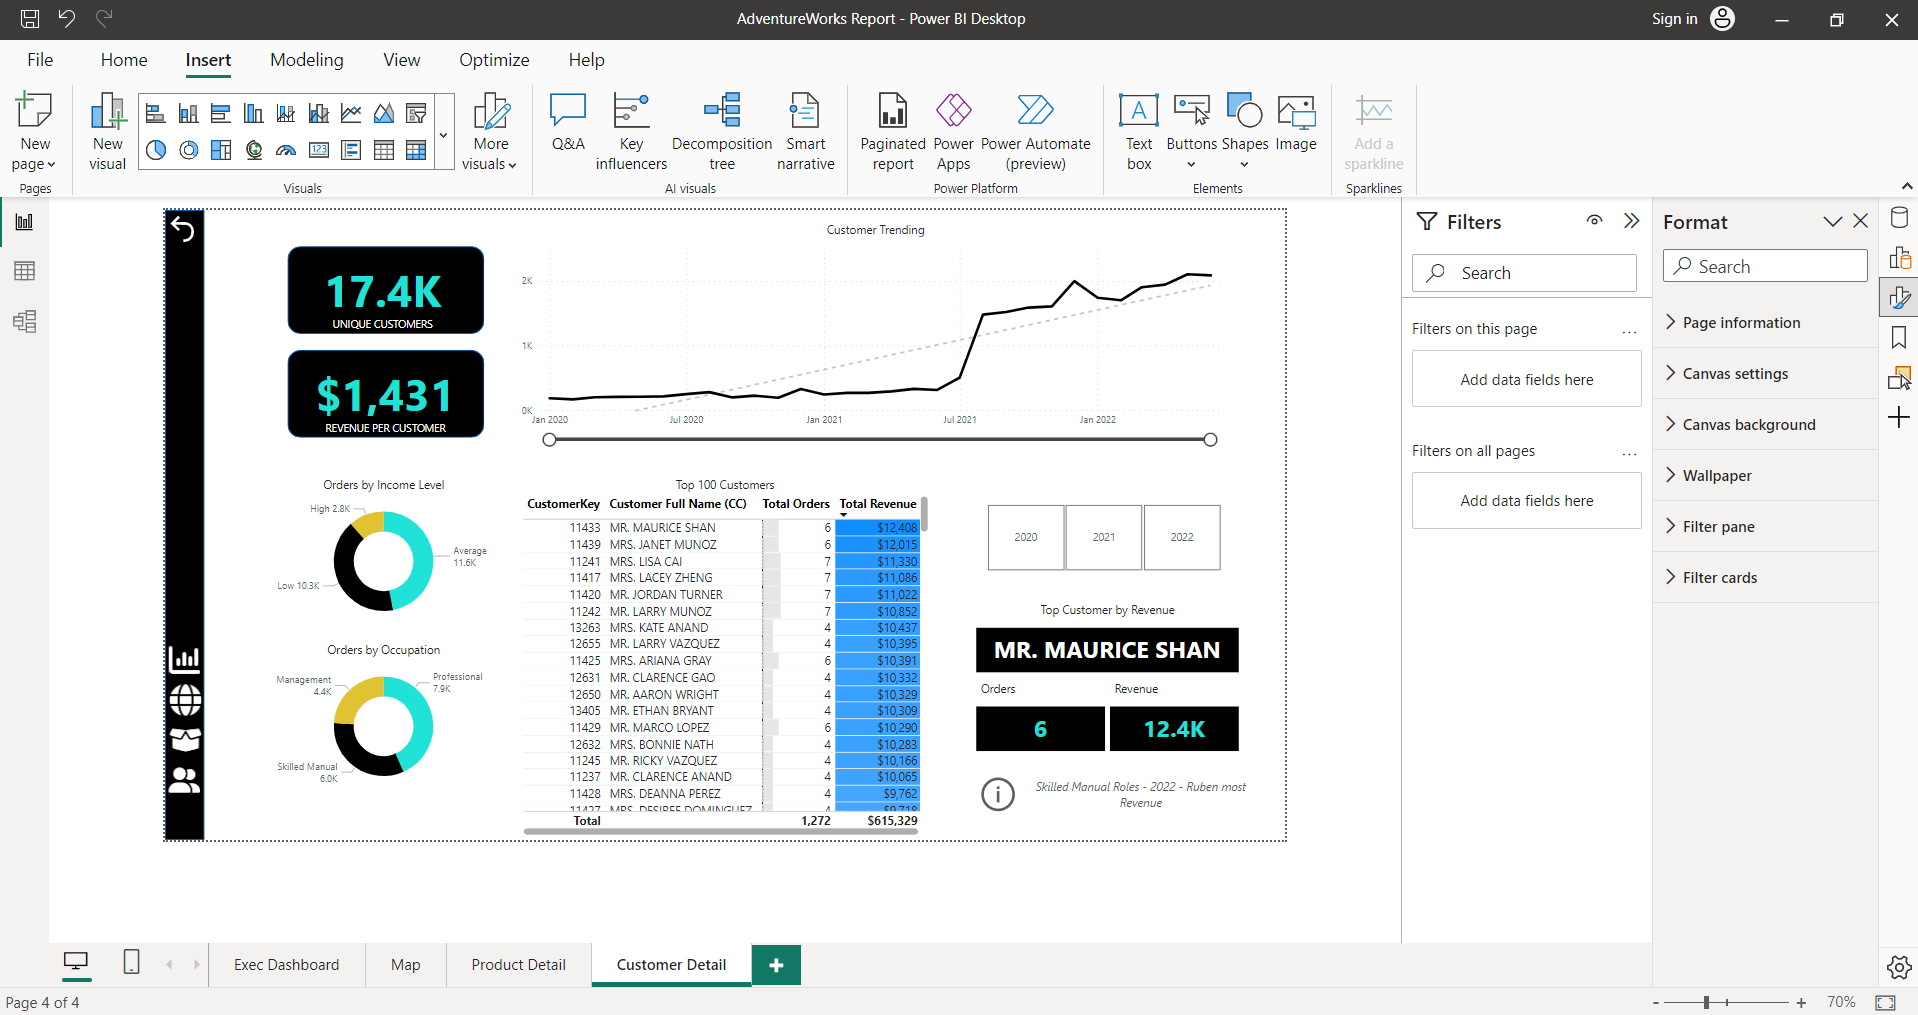

The page's visual inventory and layout, read from the dashboard file:
{"tool":"powerbi","page":{"name":"Customer Detail","canvas":[1280,720],"ordinal":3},"visuals":[{"type":"shape","box":[0,0,45,720],"z":0},{"type":"shape","box":[139.6,41.9,224.9,100.2],"z":1000},{"type":"card","fields":{"Values":["Measure Table.Total Customers"]},"box":[139.6,41.9,217.6,113.7],"z":2000},{"type":"shape","box":[139.6,159.3,224.9,100.2],"z":3000},{"type":"card","fields":{"Values":["Measure Table.Average Revenue per Customer"]},"box":[140.3,159.7,224.3,112.9],"z":4000},{"type":"lineChart","title":"Customer Trending","fields":{"Y":["Measure Table.Total Customers"],"Category":["Calendar Lookup.Date Hierarchy.Start of Year","Calendar Lookup.Date Hierarchy.Start of Month","Calendar Lookup.Date Hierarchy.Start of Week","Calendar Lookup.Date Hierarchy.Date"]},"box":[402.9,12.9,818.6,260],"z":5000},{"type":"donutChart","title":"Orders by Income Level","fields":{"Category":["Customer Lookup.Income Level"],"Y":["Measure Table.Total Orders"]},"box":[112.9,304.3,274.3,177.1],"z":6000},{"type":"donutChart","title":"Orders by Occupation","fields":{"Y":["Measure Table.Total Orders"],"Category":["Customer Lookup.Occupation"]},"box":[112.9,492.9,274.3,177.1],"z":7000},{"type":"tableEx","title":"Top 100 Customers","fields":{"Values":["Customer Lookup.CustomerKey","Customer Lookup.Customer Full Name (CC)","Measure Table.Total Orders","Measure Table.Total Revenue"]},"box":[402.9,304.3,474.3,415.7],"z":8000},{"type":"card","fields":{"Values":["Customer Lookup.Full Name (Customer Detail)"]},"box":[927.2,476.8,300,51.4],"z":9000},{"type":"textbox","box":[927.2,442.5,300,34.3],"z":10000},{"type":"card","fields":{"Values":["Measure Table.Total Orders (Customer Detail)"]},"box":[927.2,566.8,147.1,51.4],"z":11000},{"type":"textbox","box":[927.2,532.5,147.1,34.3],"z":12000},{"type":"card","fields":{"Values":["Measure Table.Total Revenue (Customer Detail)"]},"box":[1080.1,566.8,147.1,51.4],"z":13000},{"type":"textbox","box":[1080.1,532.5,147.1,34.3],"z":14000},{"type":"slicer","fields":{"Values":["Calendar Lookup.Year"]},"box":[914.3,330,315.7,88.6],"z":15000},{"type":"actionButton","box":[927.1,642.9,337.1,50],"z":16000},{"type":"actionButton","box":[0,1.4,44.3,40],"z":17000},{"type":"actionButton","box":[1.4,582.9,44.3,45.7],"z":17001},{"type":"actionButton","box":[1.4,537.1,44.3,45.7],"z":17002},{"type":"actionButton","box":[0,628.6,44.3,45.7],"z":17003},{"type":"actionButton","box":[0,491.4,44.3,45.7],"z":17004}]}

Visuals, with their boxes on the page's 1280x720 design canvas (x1, y1, x2, y2). These are canvas units, not pixel positions in the 1918x1015 screenshot, which may show the page scaled, cropped or inside an application window:
shape: l=0, t=0, r=45, b=720
shape: l=140, t=42, r=364, b=142
card - Measure Table.Total Customers: l=140, t=42, r=357, b=156
shape: l=140, t=159, r=364, b=260
card - Measure Table.Average Revenue per Customer: l=140, t=160, r=365, b=273
"Customer Trending" lineChart: l=403, t=13, r=1222, b=273
"Orders by Income Level" donutChart: l=113, t=304, r=387, b=481
"Orders by Occupation" donutChart: l=113, t=493, r=387, b=670
"Top 100 Customers" tableEx: l=403, t=304, r=877, b=720
card - Customer Lookup.Full Name (Customer Detail): l=927, t=477, r=1227, b=528
textbox: l=927, t=442, r=1227, b=477
card - Measure Table.Total Orders (Customer Detail): l=927, t=567, r=1074, b=618
textbox: l=927, t=532, r=1074, b=567
card - Measure Table.Total Revenue (Customer Detail): l=1080, t=567, r=1227, b=618
textbox: l=1080, t=532, r=1227, b=567
slicer - Calendar Lookup.Year: l=914, t=330, r=1230, b=419
actionButton: l=927, t=643, r=1264, b=693
actionButton: l=0, t=1, r=44, b=41
actionButton: l=1, t=583, r=46, b=629
actionButton: l=1, t=537, r=46, b=583
actionButton: l=0, t=629, r=44, b=674
actionButton: l=0, t=491, r=44, b=537
